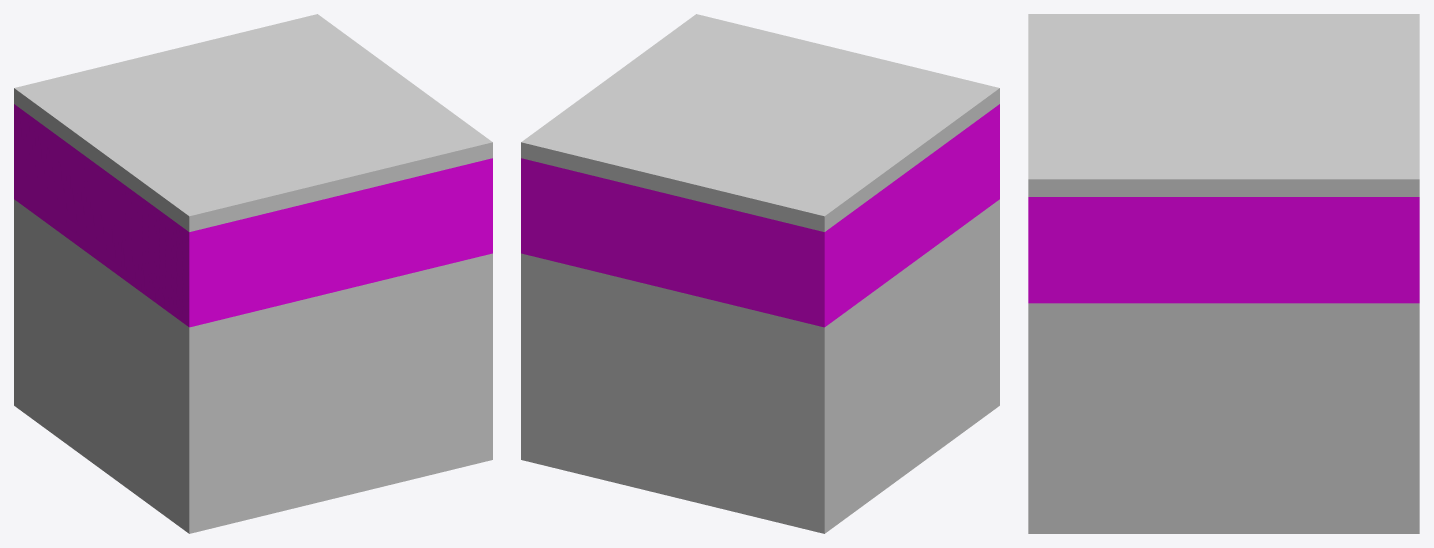
Rendered from Barracks.fbx.
The picture shows the model from 3 angles, left to right: view 1: azimuth 30°, elevation 25°; view 2: azimuth 150°, elevation 25°; view 3: azimuth 270°, elevation 25°; orthographic projection. The views are drawn at different scales.
Parts seen in each view (by area): view 1: Barracks; view 2: Barracks; view 3: Barracks.
Boxes of the visible parts, left/top/right/bottom form: Barracks: left=14, top=14, right=492, bottom=533; Barracks: left=521, top=14, right=999, bottom=533; Barracks: left=1028, top=14, right=1419, bottom=533.
Size of the model in its own units: 1 by 1 by 1.
